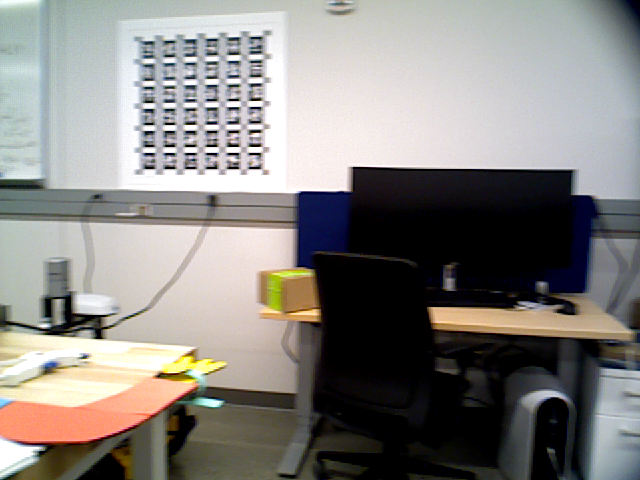painting4: (117, 11, 286, 192)
